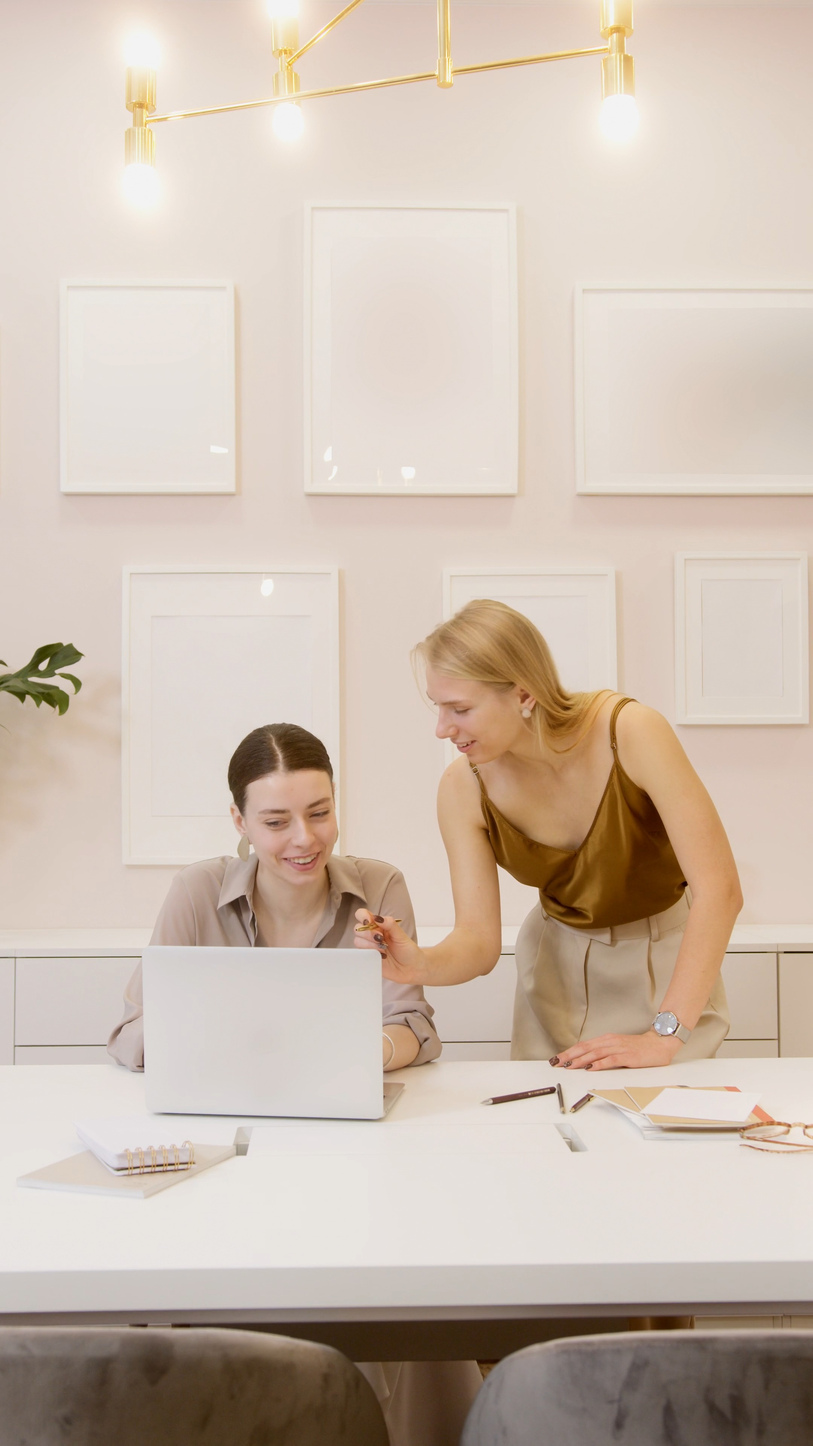No-gloves: (548, 1017, 717, 1093), (352, 894, 429, 976)
